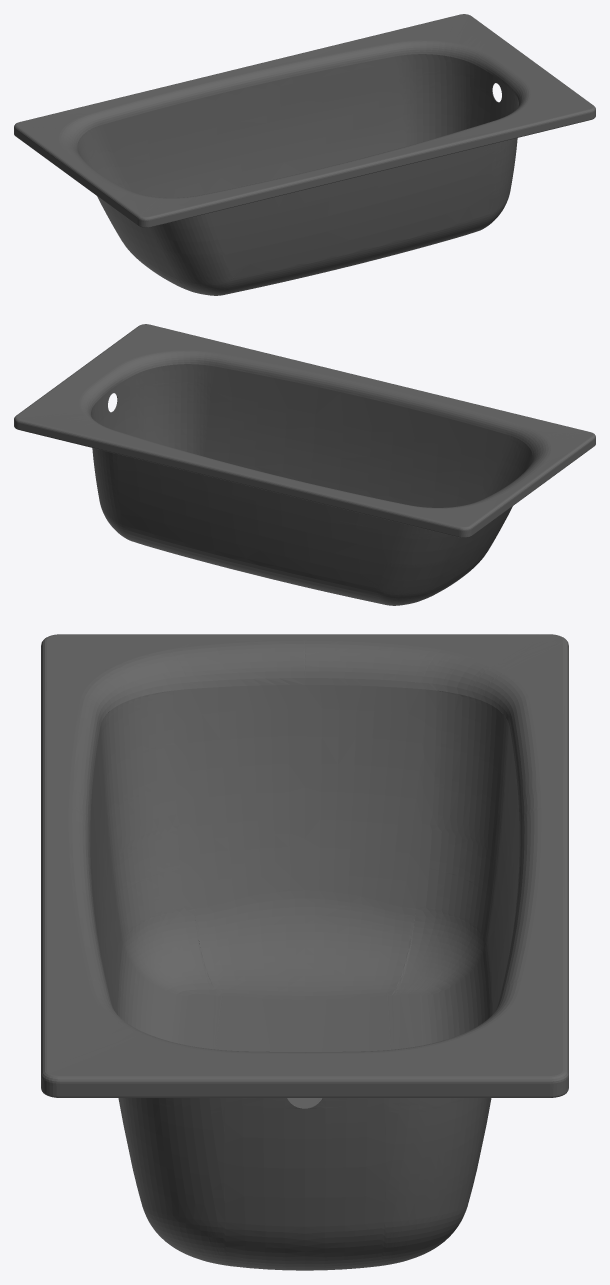
The model's file is AEC_48660.glb.
3 renders of one model, top to bottom at view 1: azimuth 30°, elevation 25°; view 2: azimuth 150°, elevation 25°; view 3: azimuth 270°, elevation 25°, orthographic. The views are drawn at different scales.
Visible parts, largest first — view 1: 0; view 2: 0; view 3: 0.
Part boxes in pixels (<box>): 0: <box>14,14,595,295</box>; 0: <box>14,324,595,605</box>; 0: <box>41,634,568,1270</box>.
Size of the model in its own units: 1.4 by 0.3899 by 0.7001.
Materials: 1 (1 with a texture image).
